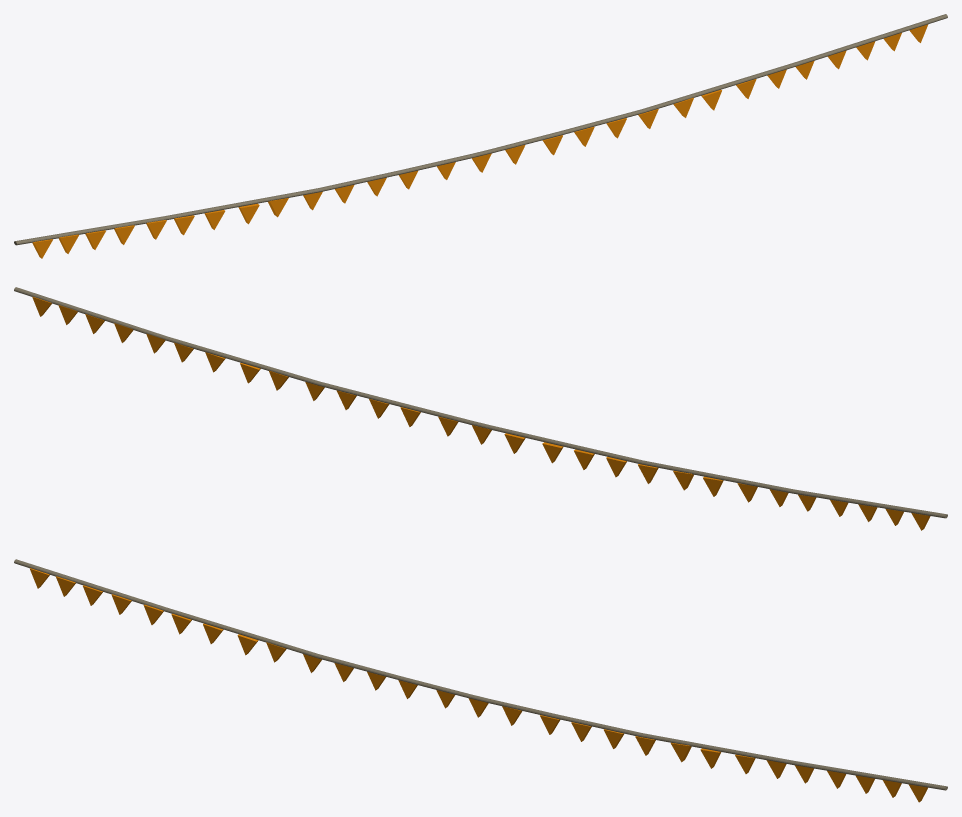
The model's file is Decoration.fbx.
3 renders of one model, top to bottom at view 1: azimuth 30°, elevation 25°; view 2: azimuth 150°, elevation 25°; view 3: azimuth 330°, elevation 25°, orthographic.
Visible parts, largest first — view 1: Circle.005, Cylinder; view 2: Circle.005, Cylinder; view 3: Circle.005, Cylinder.
Part boxes in pixels (<box>): Circle.005: <box>32,24,928,258</box>; Cylinder: <box>14,14,947,245</box>; Circle.005: <box>32,296,930,530</box>; Cylinder: <box>14,287,947,518</box>; Circle.005: <box>30,568,927,802</box>; Cylinder: <box>14,559,947,790</box>.
Size of the model in its own units: 17837 by 794 by 142.
